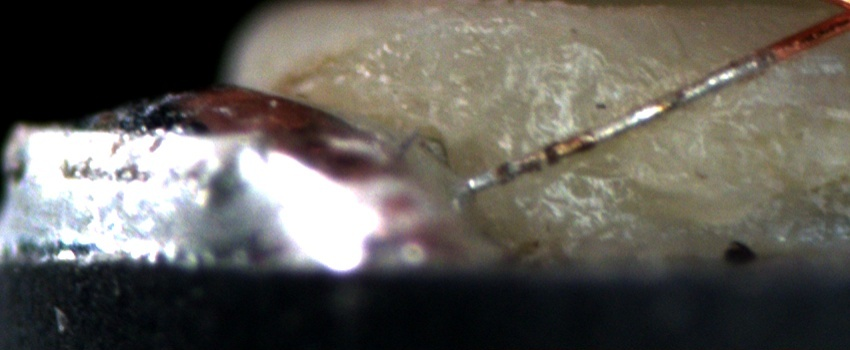DL: (594, 92, 850, 141)
TS: (469, 53, 771, 193)
